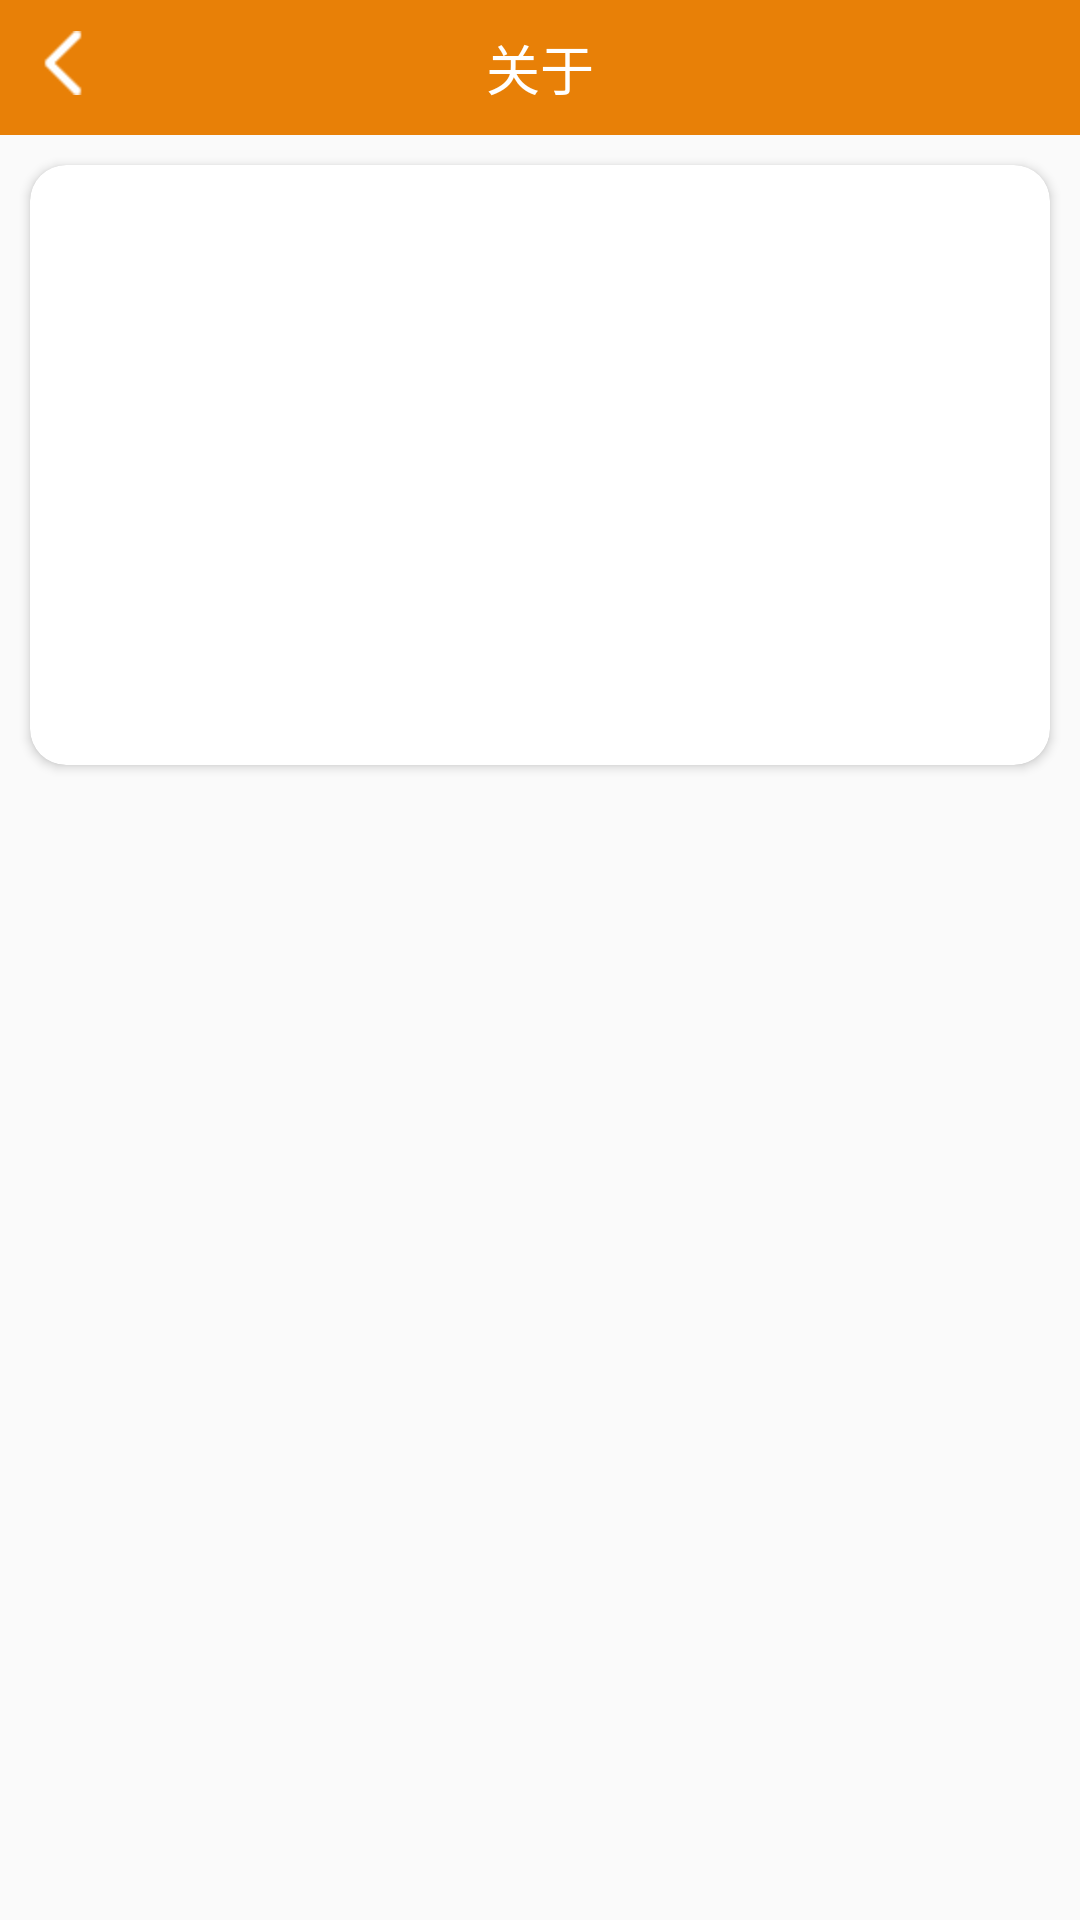

Icons on this 1080 × 1920 Android screen, each with the point to tap as [x,y]:
back: [63,63]
